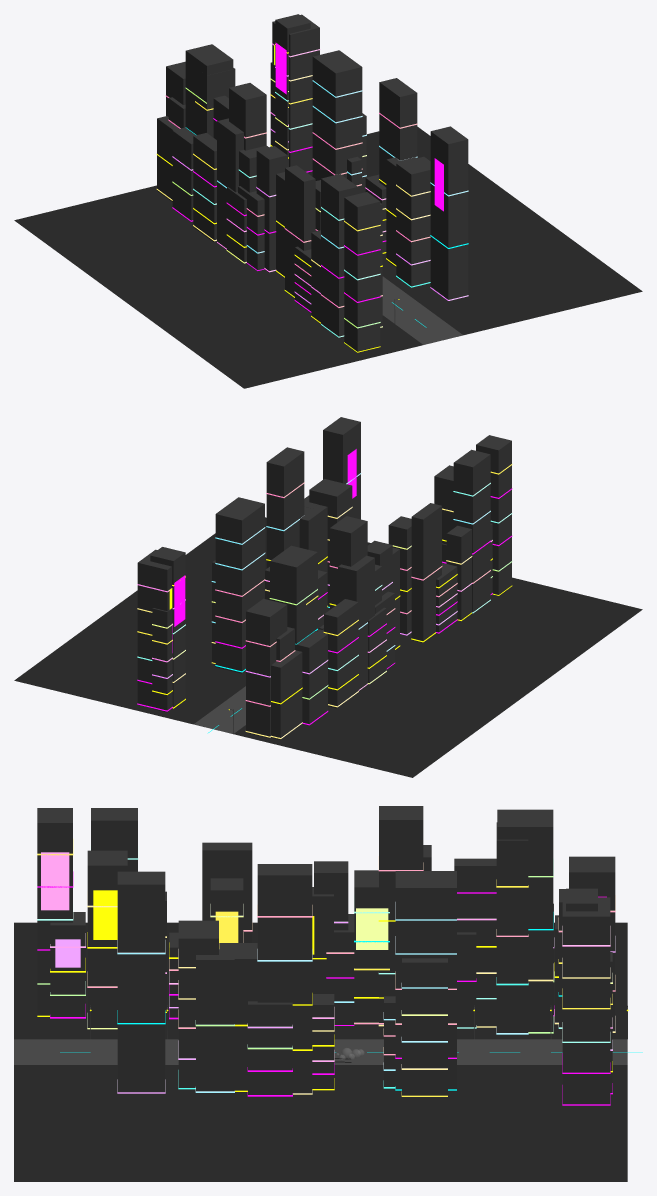
Rendered from tokyo-drift-scene.gltf.
The picture shows the model from 3 angles, top to bottom: view 1: azimuth 30°, elevation 25°; view 2: azimuth 150°, elevation 25°; view 3: azimuth 270°, elevation 25°; orthographic projection. The views are drawn at different scales.
Size of the model in its own units: 200 by 79.79 by 205.
